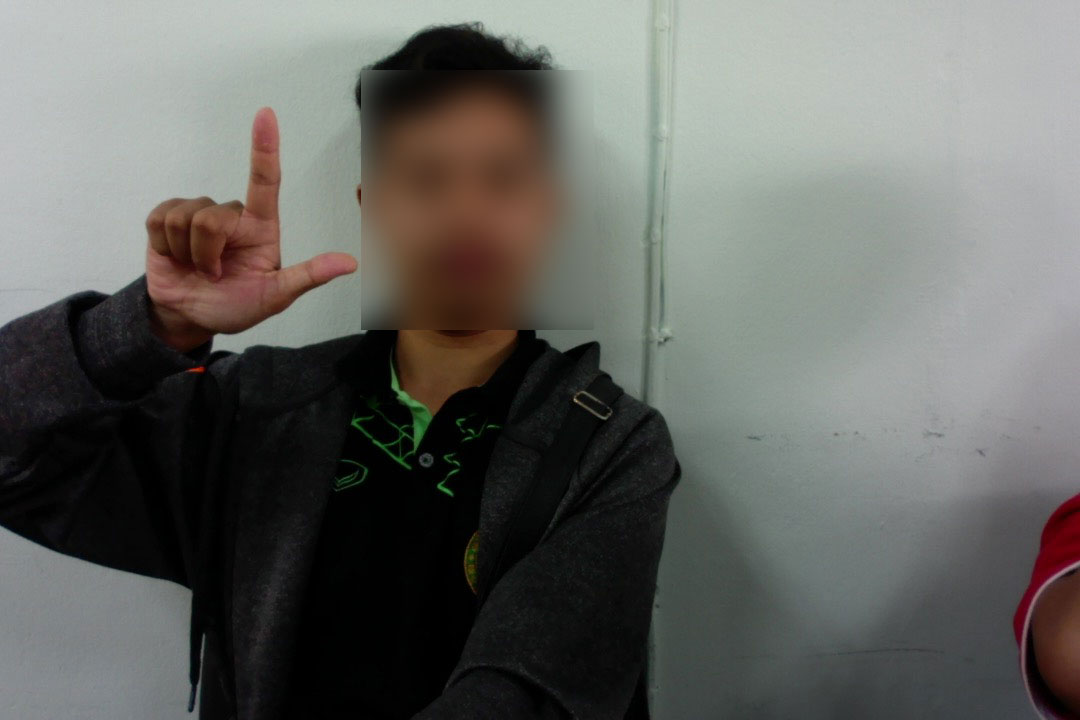lor: (102, 94, 377, 351)
